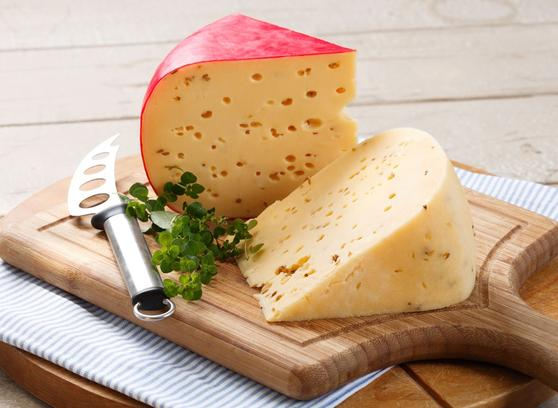cheese: (230, 127, 483, 315), (145, 13, 362, 222)
